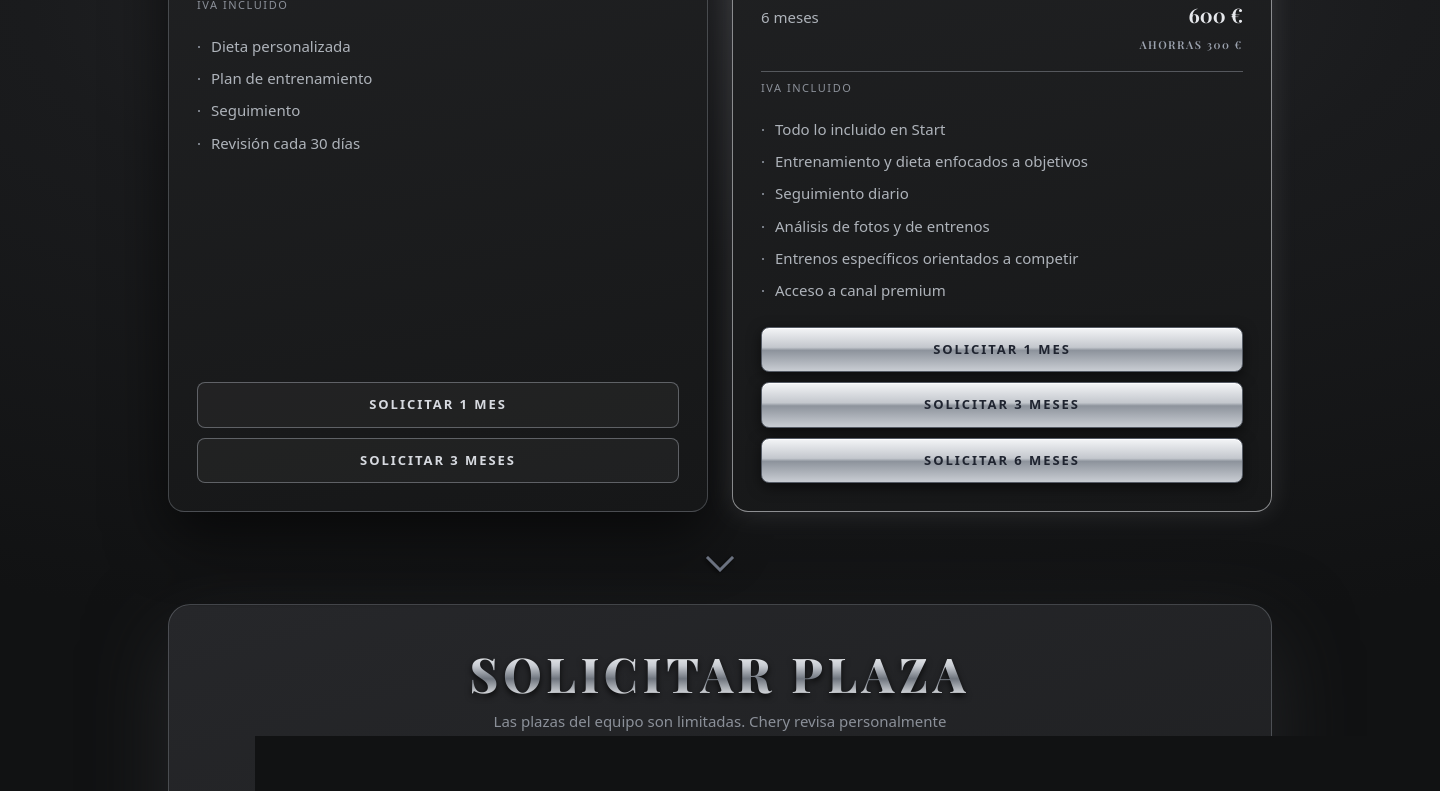
Scenario: ServicePage › cada botón de plan de entrenamiento preselecciona una etiqueta válida del formulario
(page scrolled)
Click the button "Solicitar 1 mes" below "Revisión cada 30 días" at [438, 405], box [197,382,679,428]
(page scrolled)
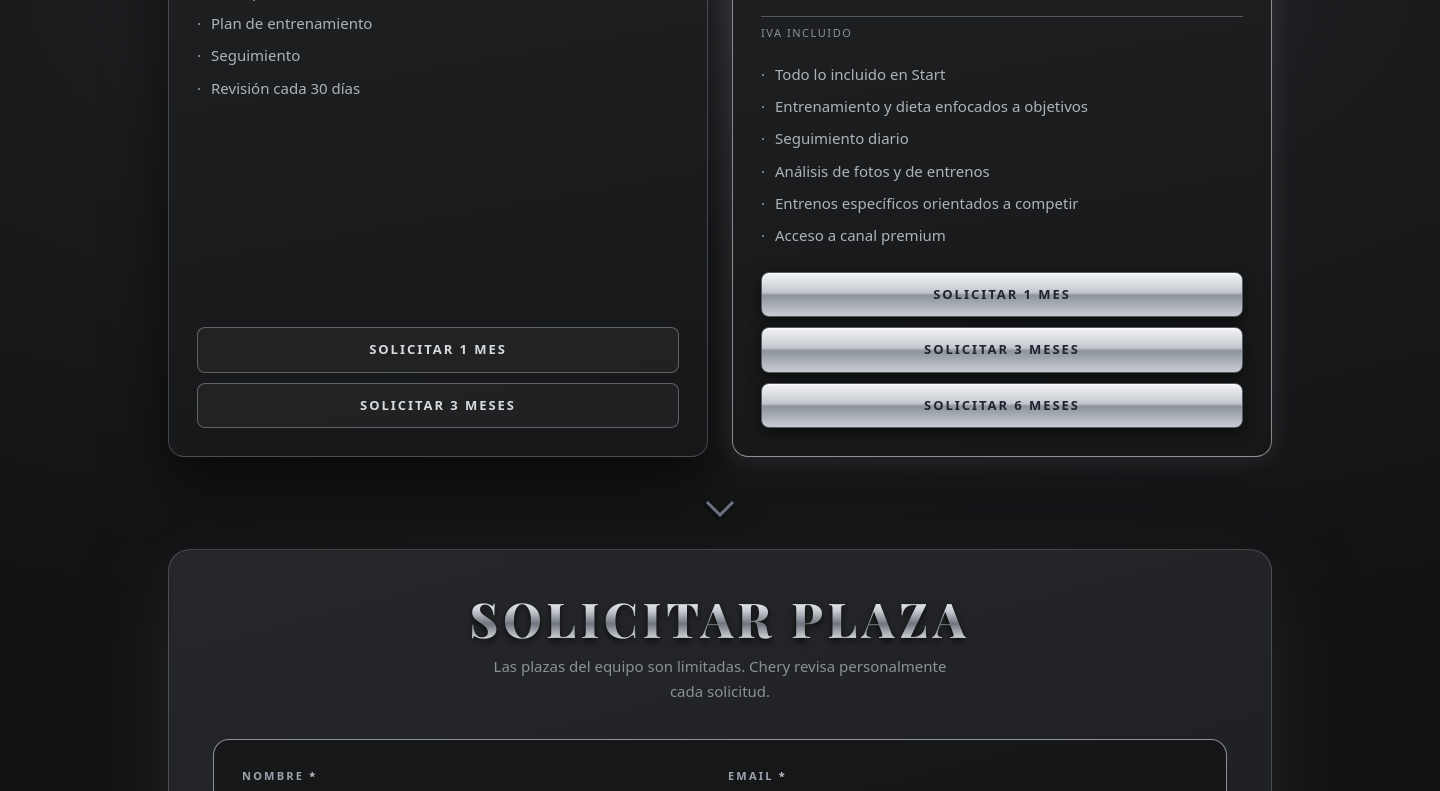
Click the button "Solicitar 3 meses" below "Revisión cada 30 días" at [438, 406], box [197,383,679,428]
(page scrolled)
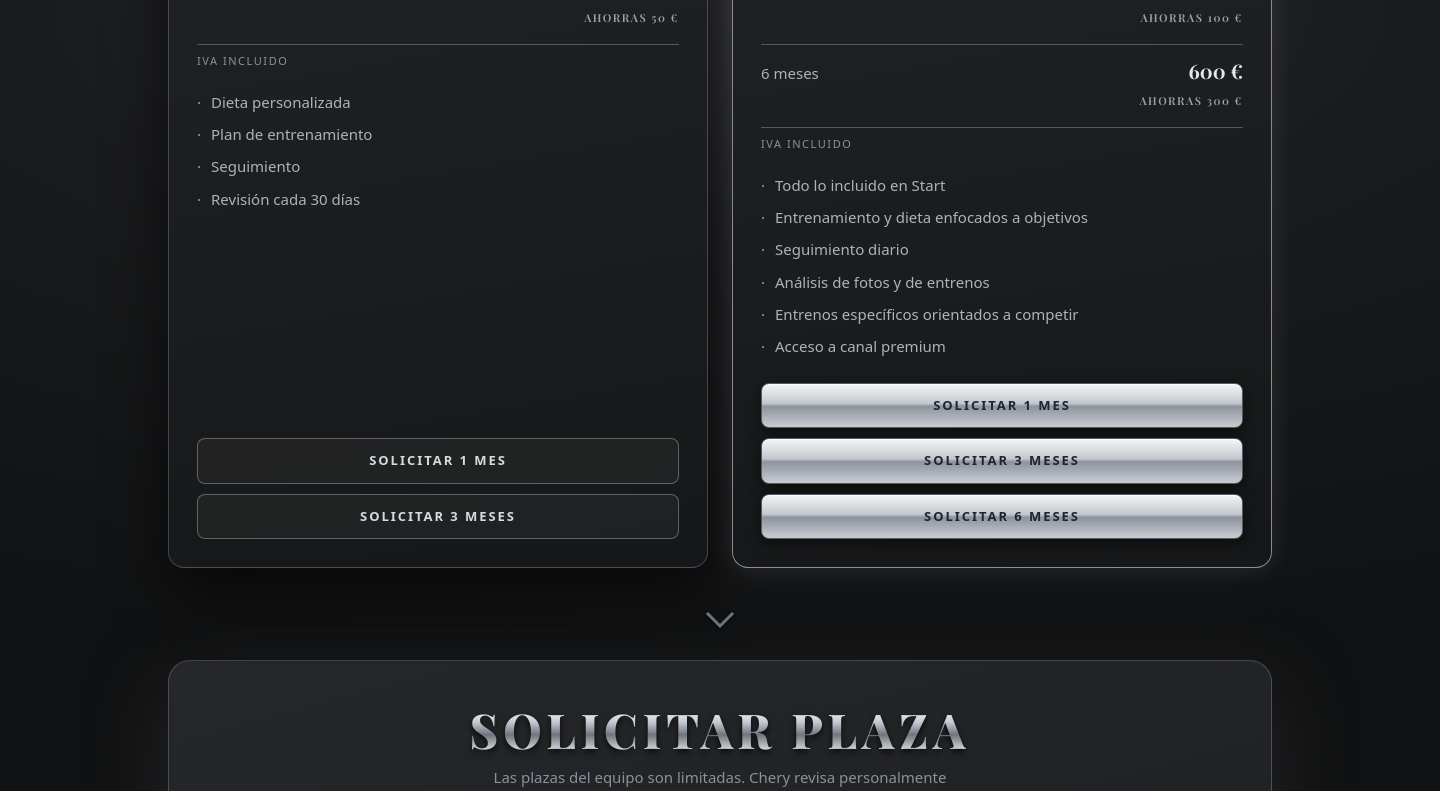
Click the button "Solicitar 1 mes" below "Acceso a canal premium" at [1002, 406], box [761,383,1243,428]
(page scrolled)
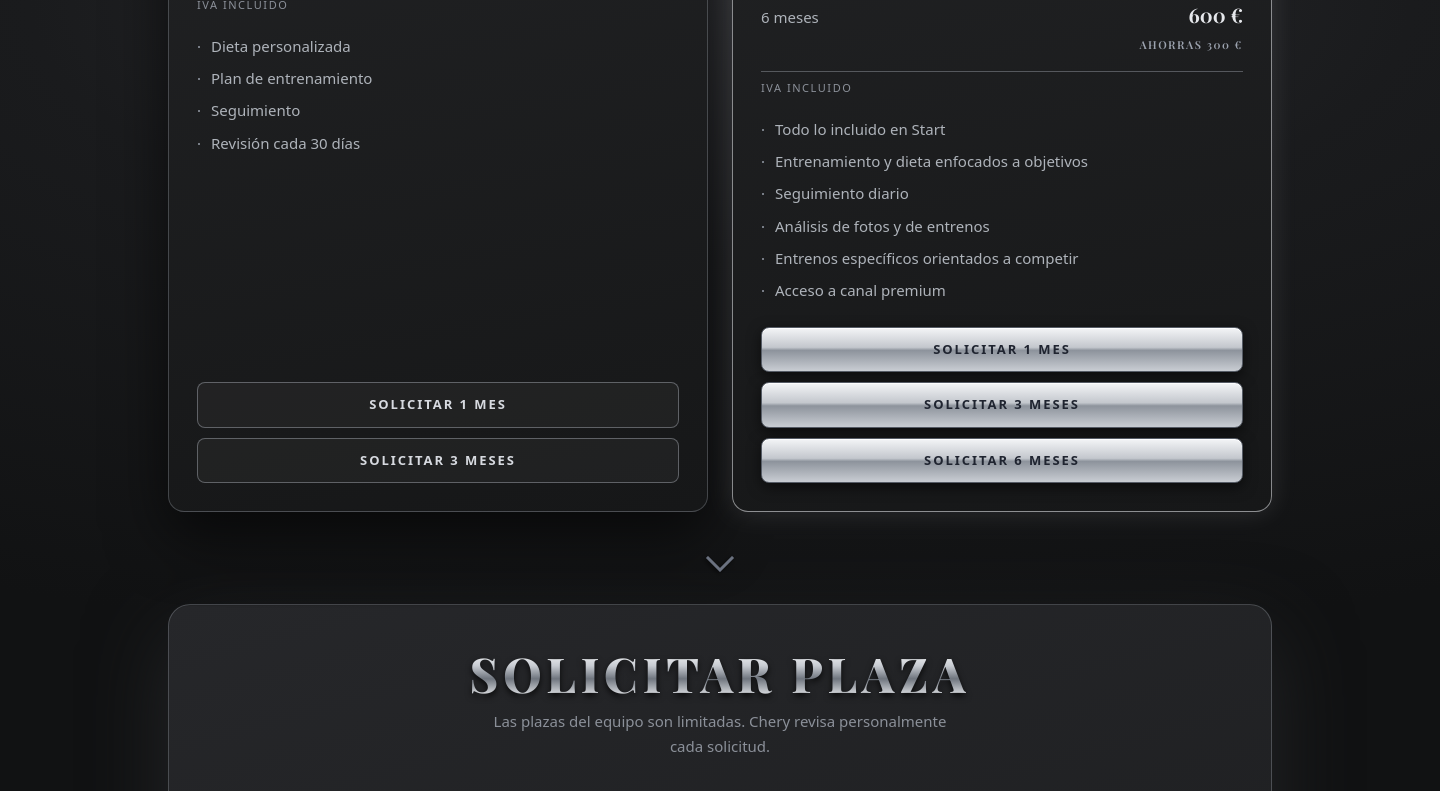
Click the button "Solicitar 3 meses" below "Acceso a canal premium" at [1002, 405], box [761,382,1243,428]
(page scrolled)
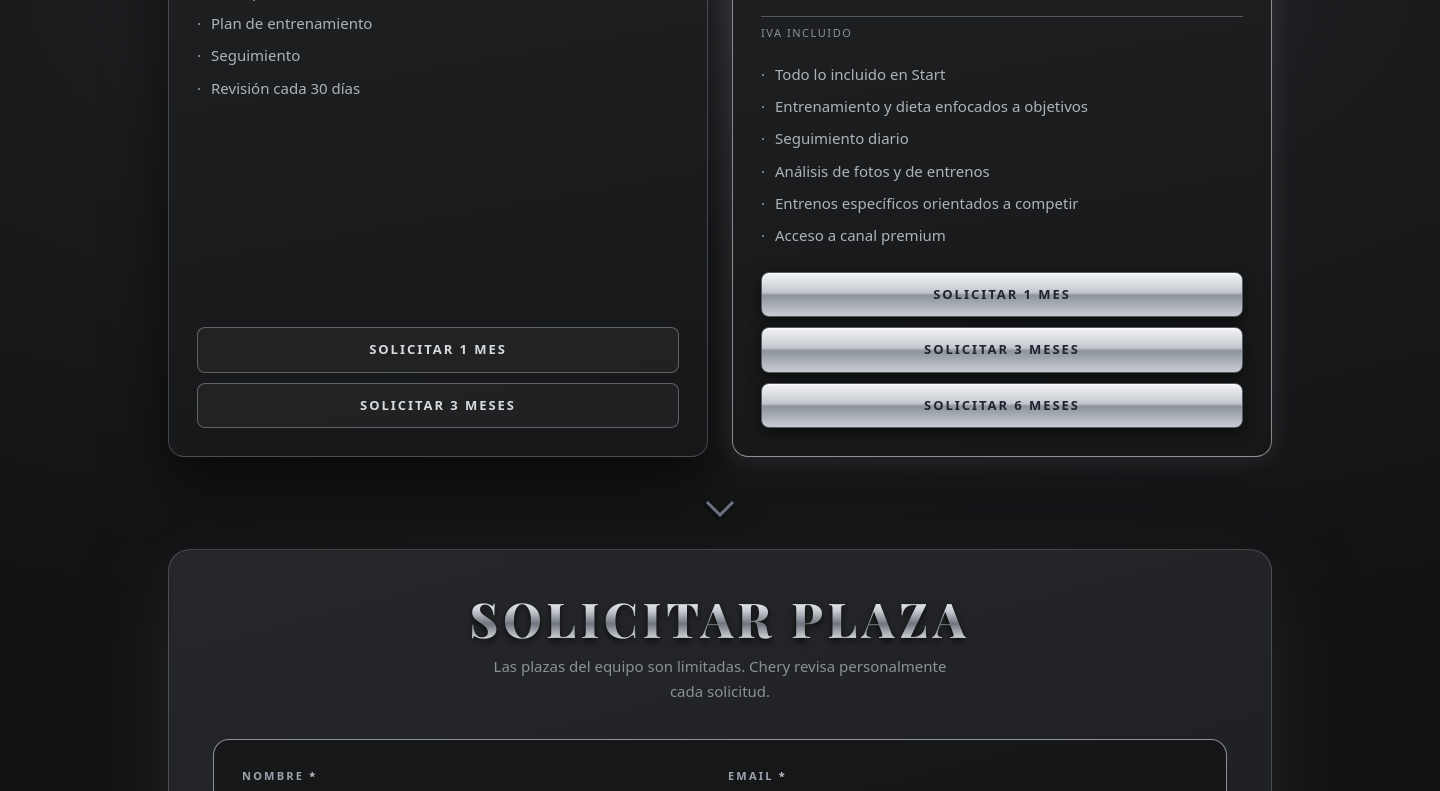
Click the button "Solicitar 6 meses" at [1002, 406], box [761,383,1243,428]
(page scrolled)
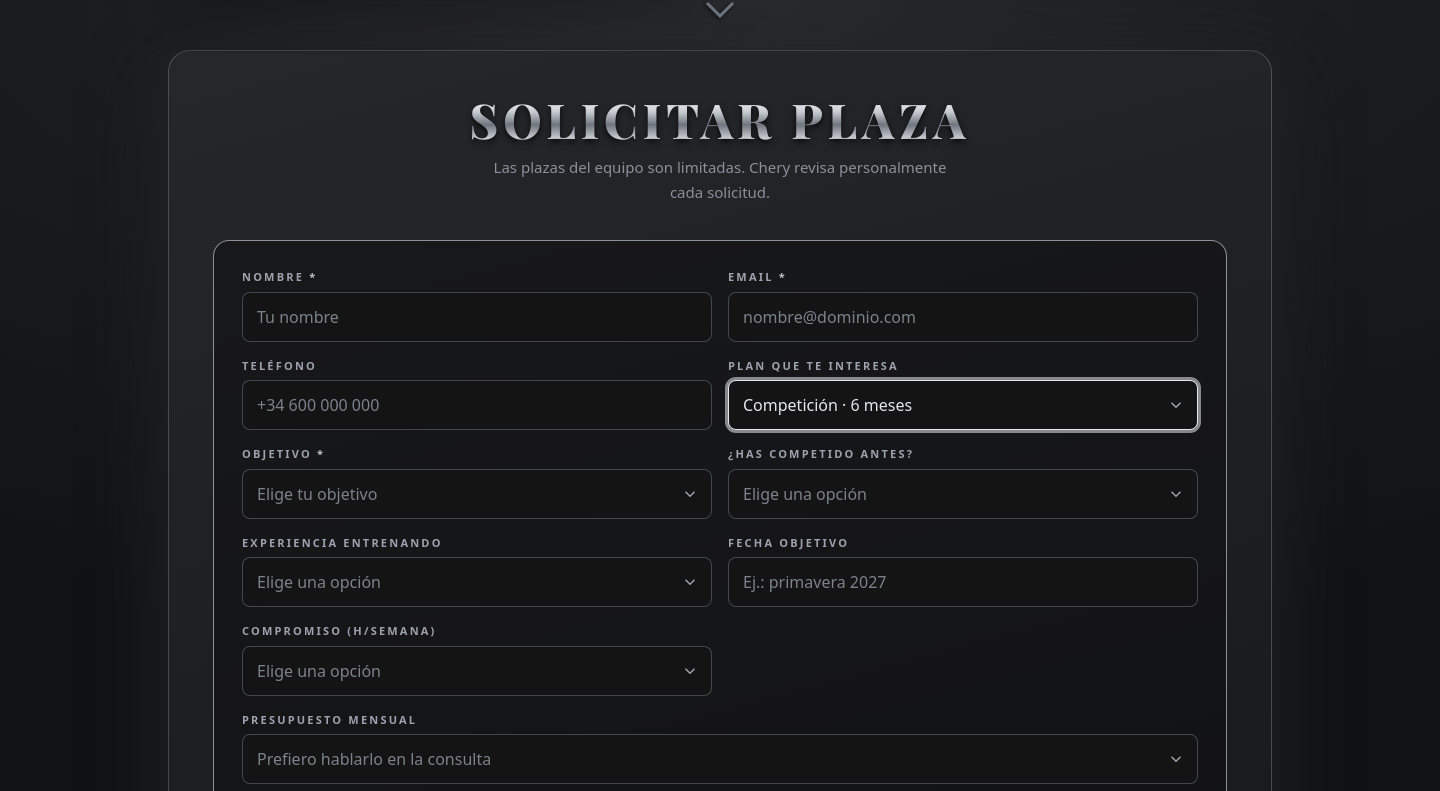
Expected: the dropdown labelled "Plan que te interesa" shows "Competición · 6 meses", [728,380,1198,430]
